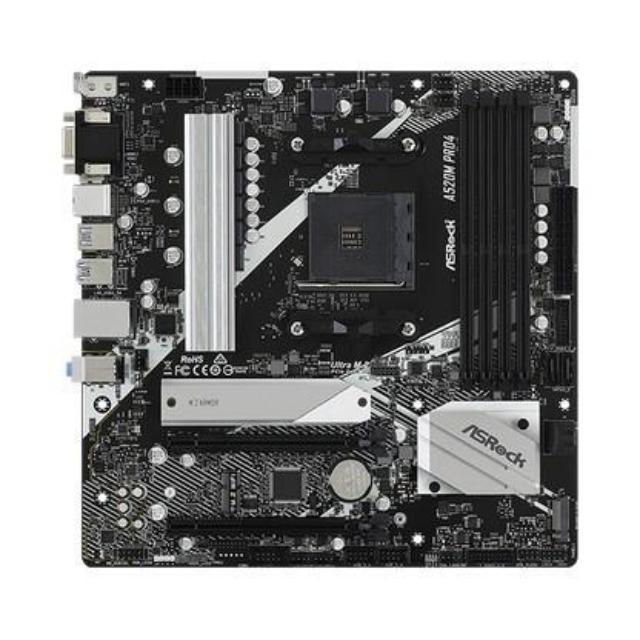Mainboard: (69, 68, 586, 574)
